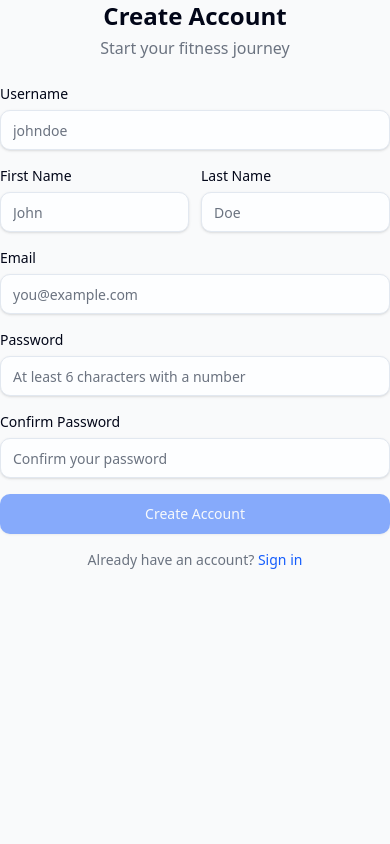
SignUpForm › should show confirmation screen after successful signup
The width and height of the screenshot is (390, 844).
In the field labelled "Username": (195, 130) [0,110,389,150], type "johnd"
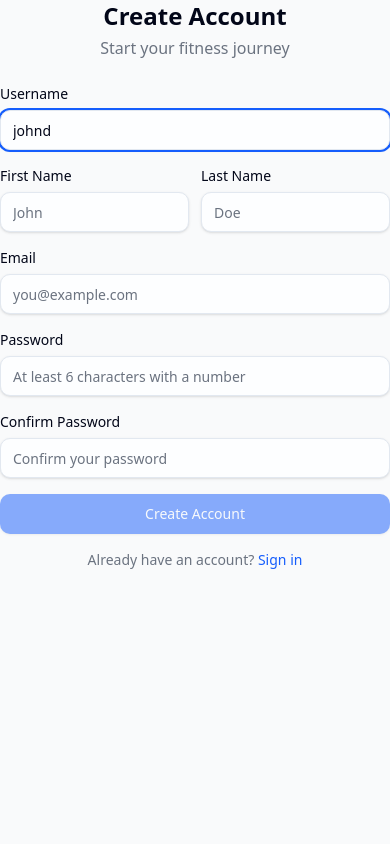
In the field labelled "Email": (195, 294) [0,274,389,314], type "john@example.com"
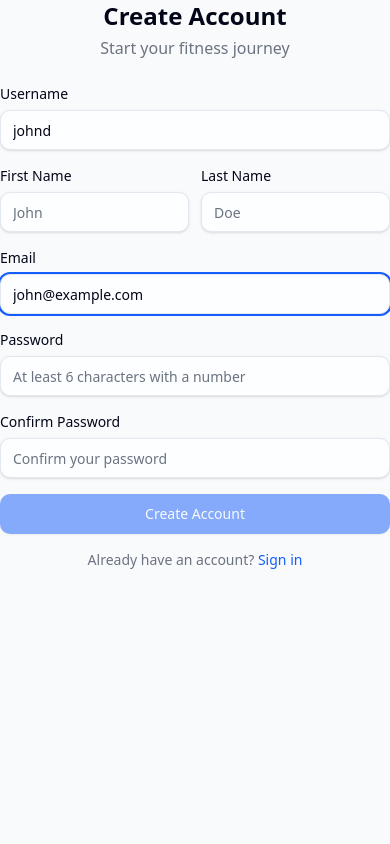
In the password field labelled "Password": (195, 376) [0,356,389,396], type "password123"
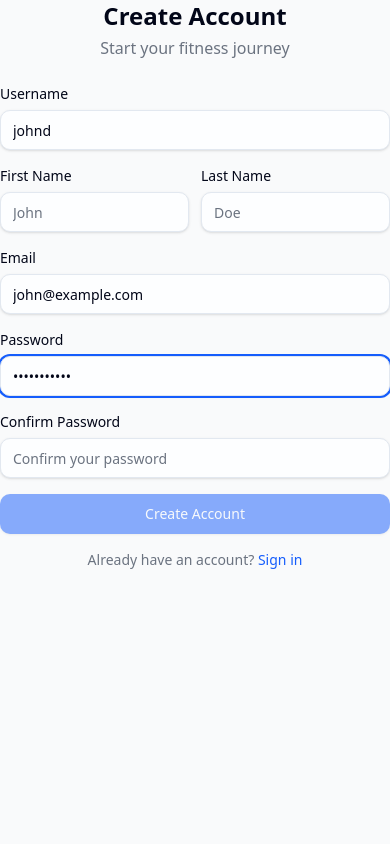
In the password field labelled "Confirm Password": (195, 458) [0,438,389,478], type "password123"
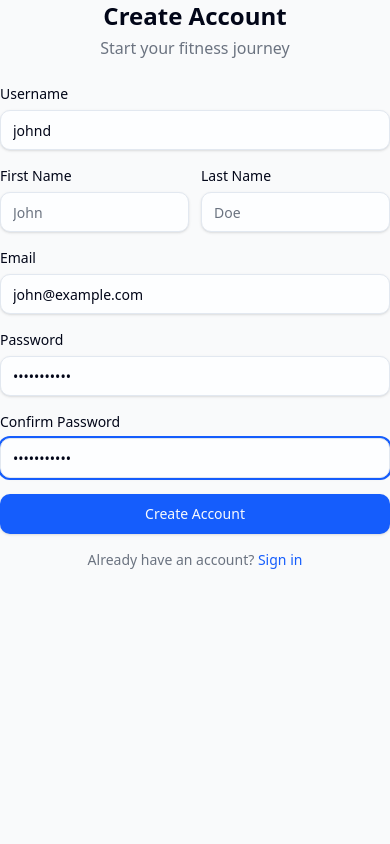
Check: the button "Create Account" is enabled
Click the button "Create Account": (195, 514) [0,494,389,534]
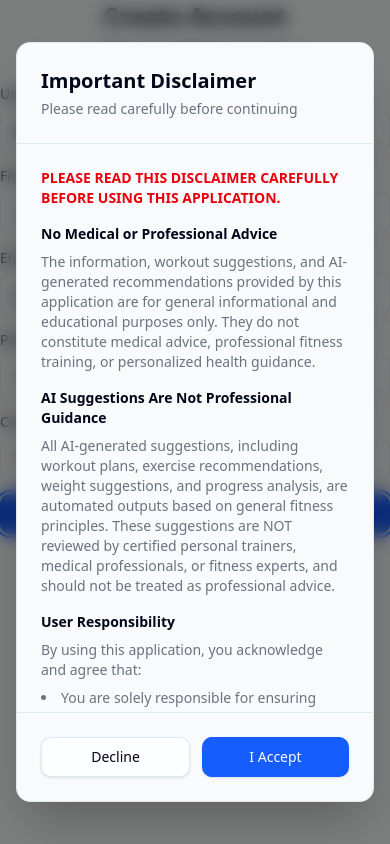
Check: the button "I Accept" is shown
Click the button "I Accept": (276, 757) [202,737,349,777]
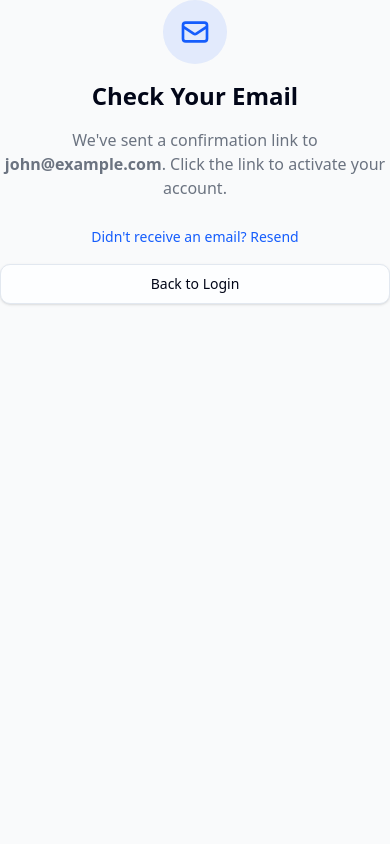
Check: the heading "Check Your Email" is shown, box [92,79,298,112]
Check: the text "john@example.com" is shown, box [5,153,162,175]
